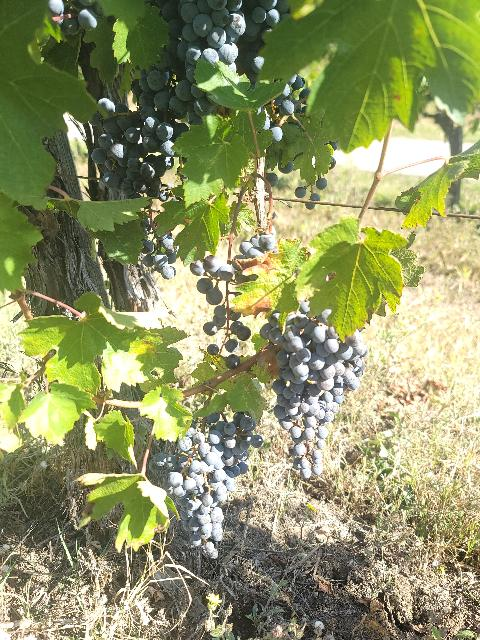grapes: (272, 301, 369, 479), (91, 99, 188, 236), (188, 221, 277, 367), (150, 426, 228, 559), (208, 412, 264, 475), (140, 234, 176, 279)
